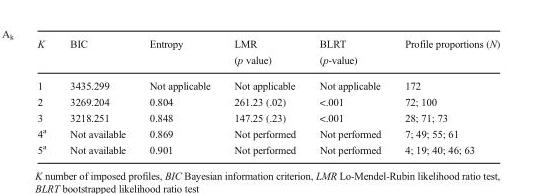table: (36, 36, 499, 155)
table column: (392, 36, 499, 155), (306, 36, 392, 155), (136, 36, 221, 155), (221, 36, 306, 155), (57, 36, 136, 155), (36, 36, 57, 155)
table column header: (36, 36, 499, 72)
table row: (36, 36, 499, 72), (36, 72, 499, 93), (36, 93, 499, 109), (36, 124, 499, 140), (36, 109, 499, 124), (36, 140, 499, 155)
